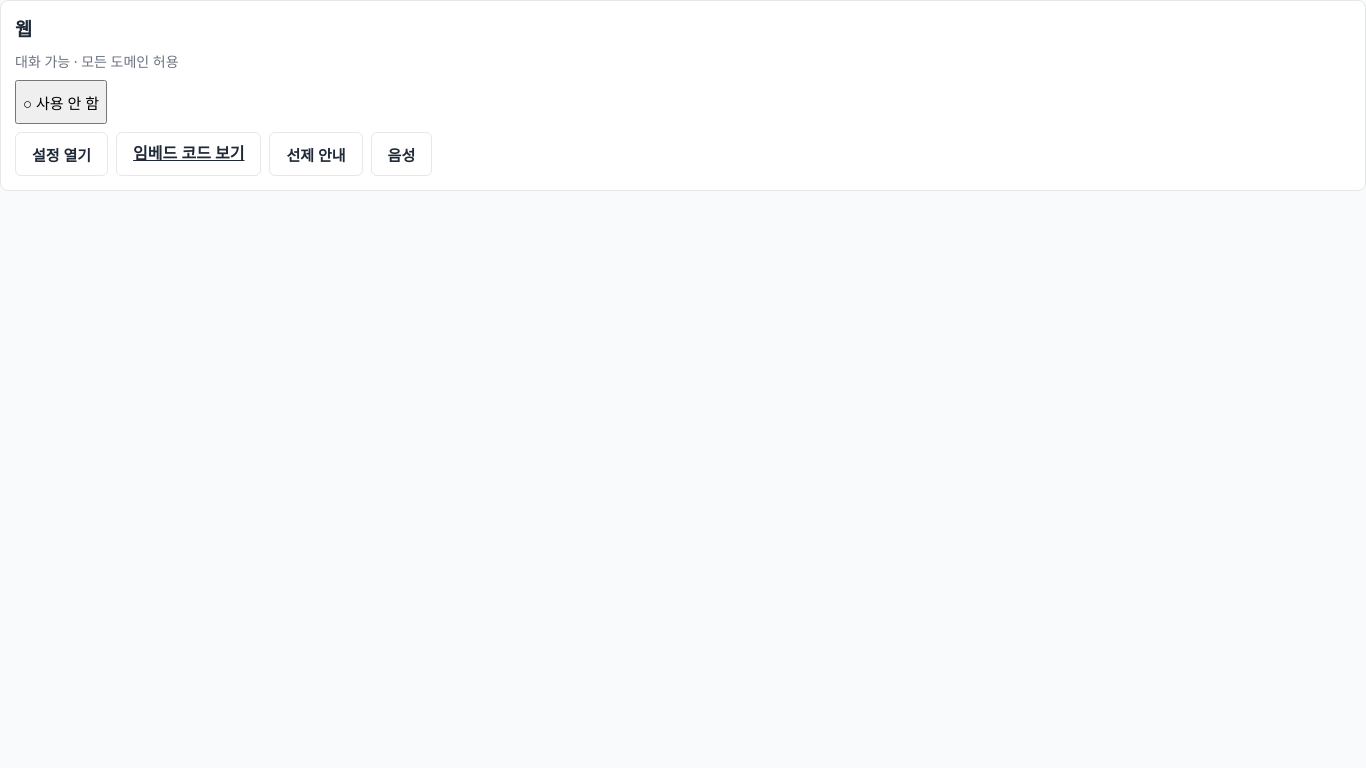
Test case: ChannelCard — aria-disabled 동작(NFR-A3, AC-11-12) — WEB만 활성화 가능, 나머지는 준비 중 안내 › 서버가 409 CHANNEL_NOT_IMPLEMENTED를 반환하면(방어선 우회 시나리오) 오류 메시지가 토스트로 표시된다
The image size is (1366, 768).
Step 1. Click the switch labelled "○ 사용 안 함" → {"x": 61, "y": 102}, box x1=15 y1=80 x2=107 y2=124
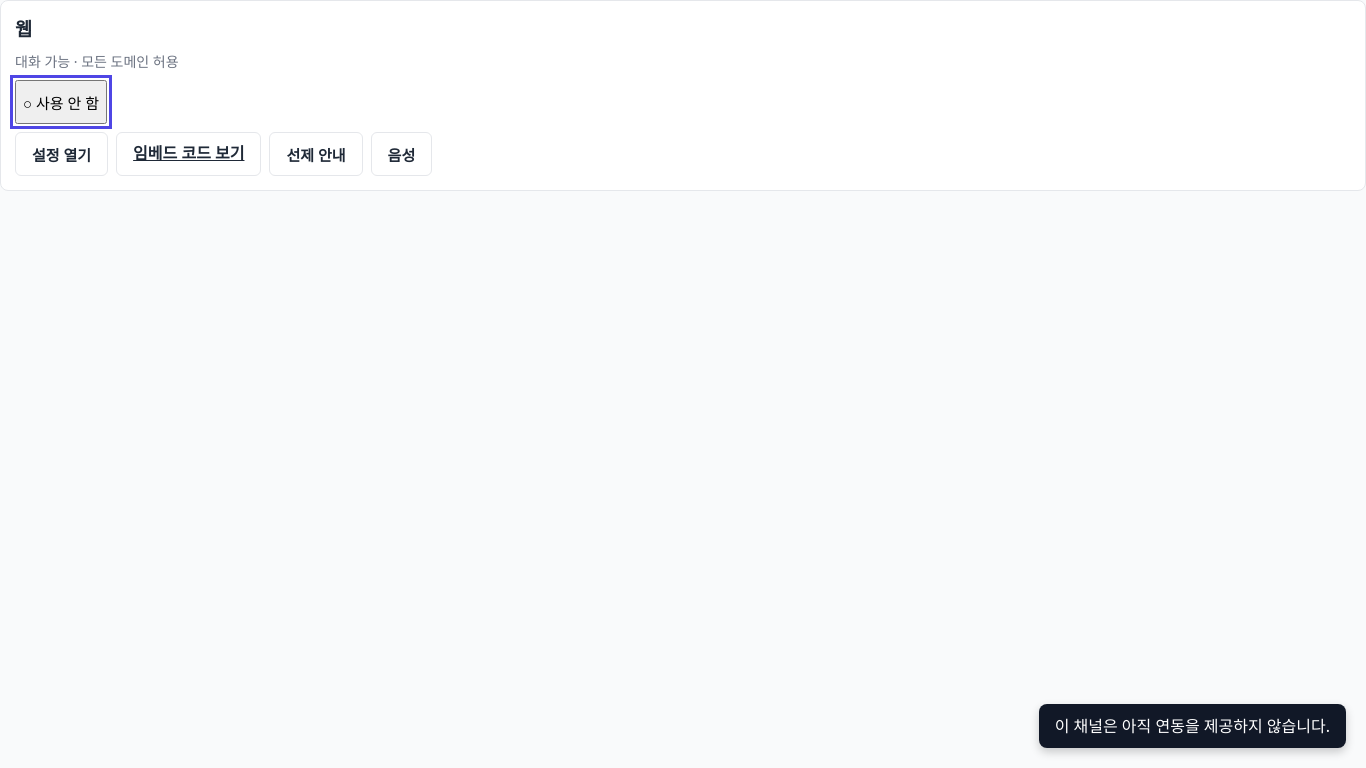
Expected: the text "이 채널은 아직 연동을 제공하지 않습니다." is shown, x1=1039 y1=704 x2=1346 y2=748
